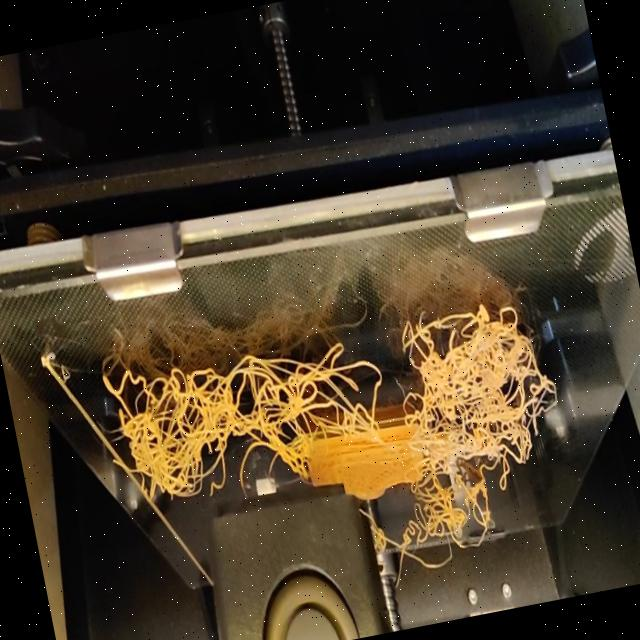spaghetti: (90, 272, 571, 526), (357, 446, 556, 599)
